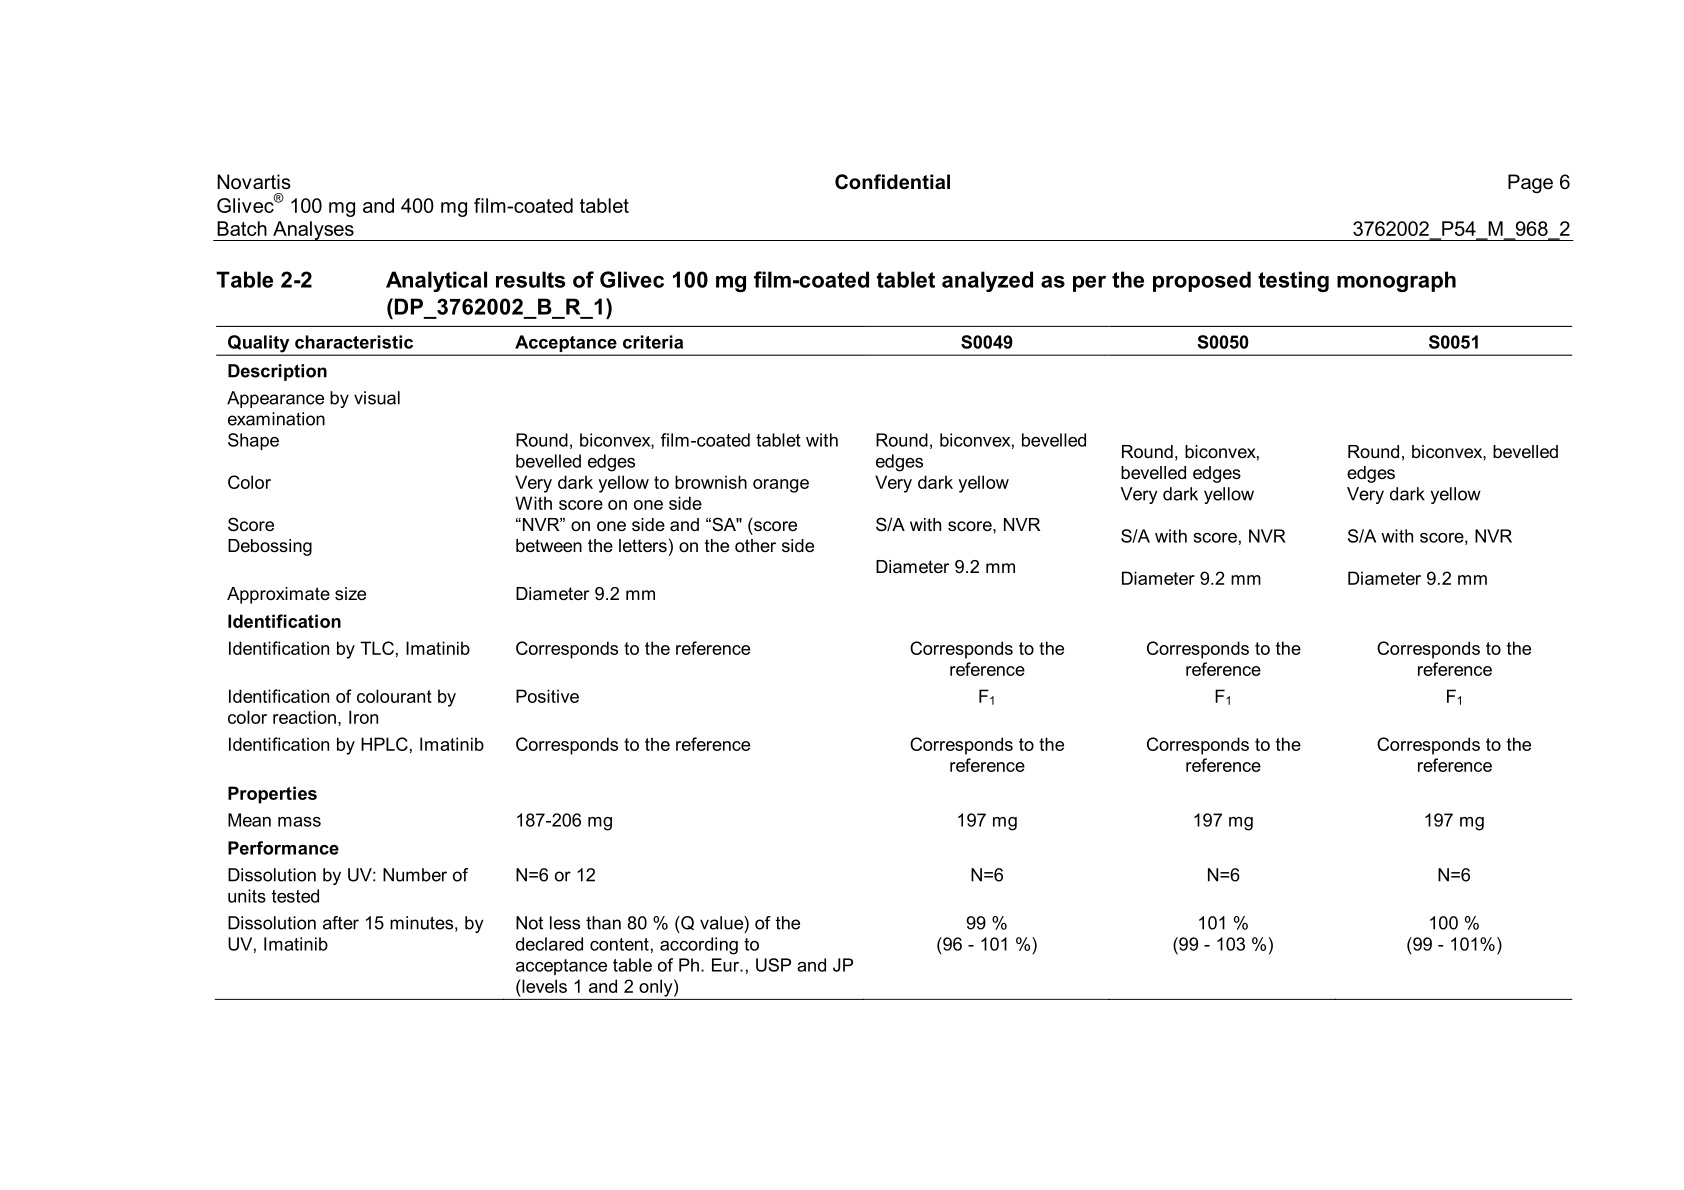partial_lined: (215, 325, 1577, 1005)
